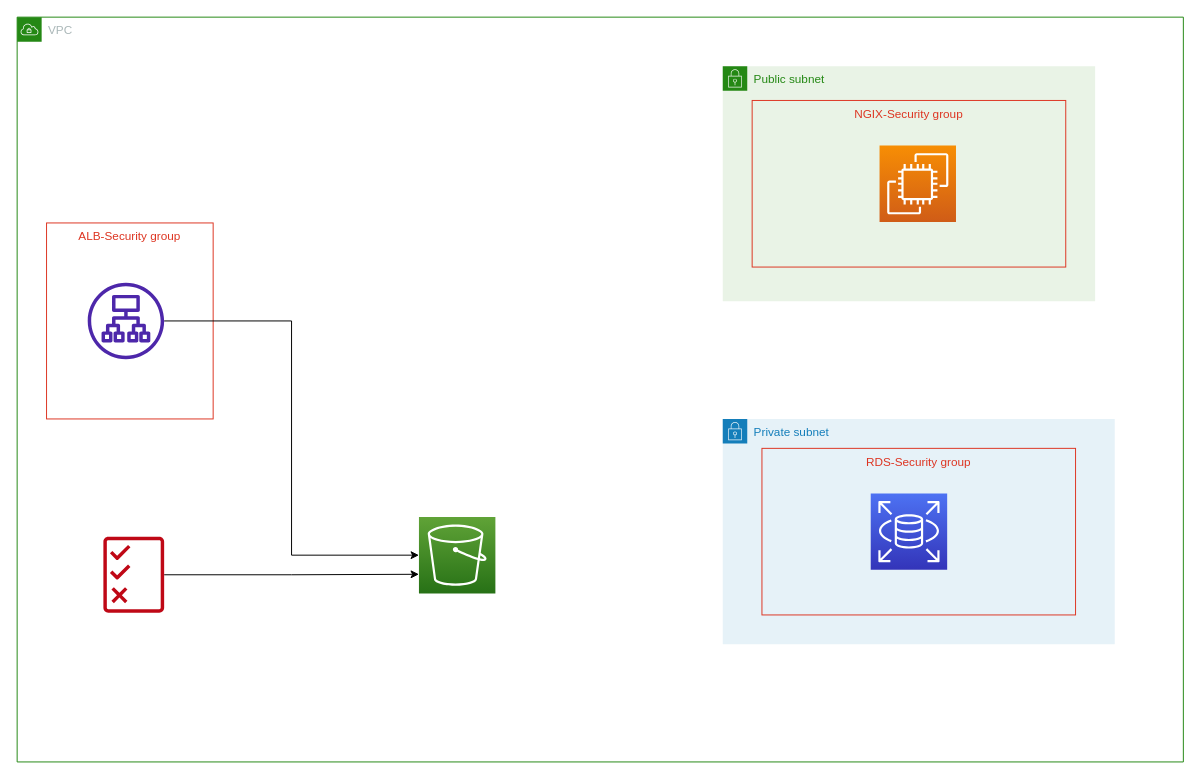
The diagram is 1201 pixels wide and 779 high, and some of its shapes have lost their labels. The shapes that lost their labels are listed below. From the top down, each one's centre as x and y in pixels, then its label:
At [917,183]: "EC2".
At [133,574]: "IAM Policy".
